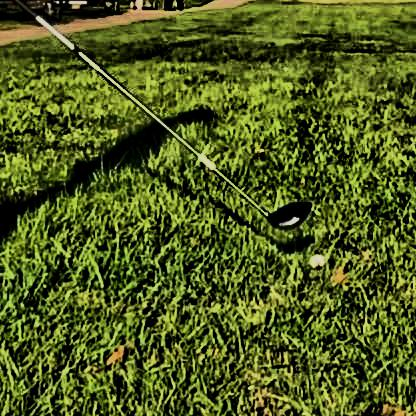golfball: (305, 250, 322, 267)
